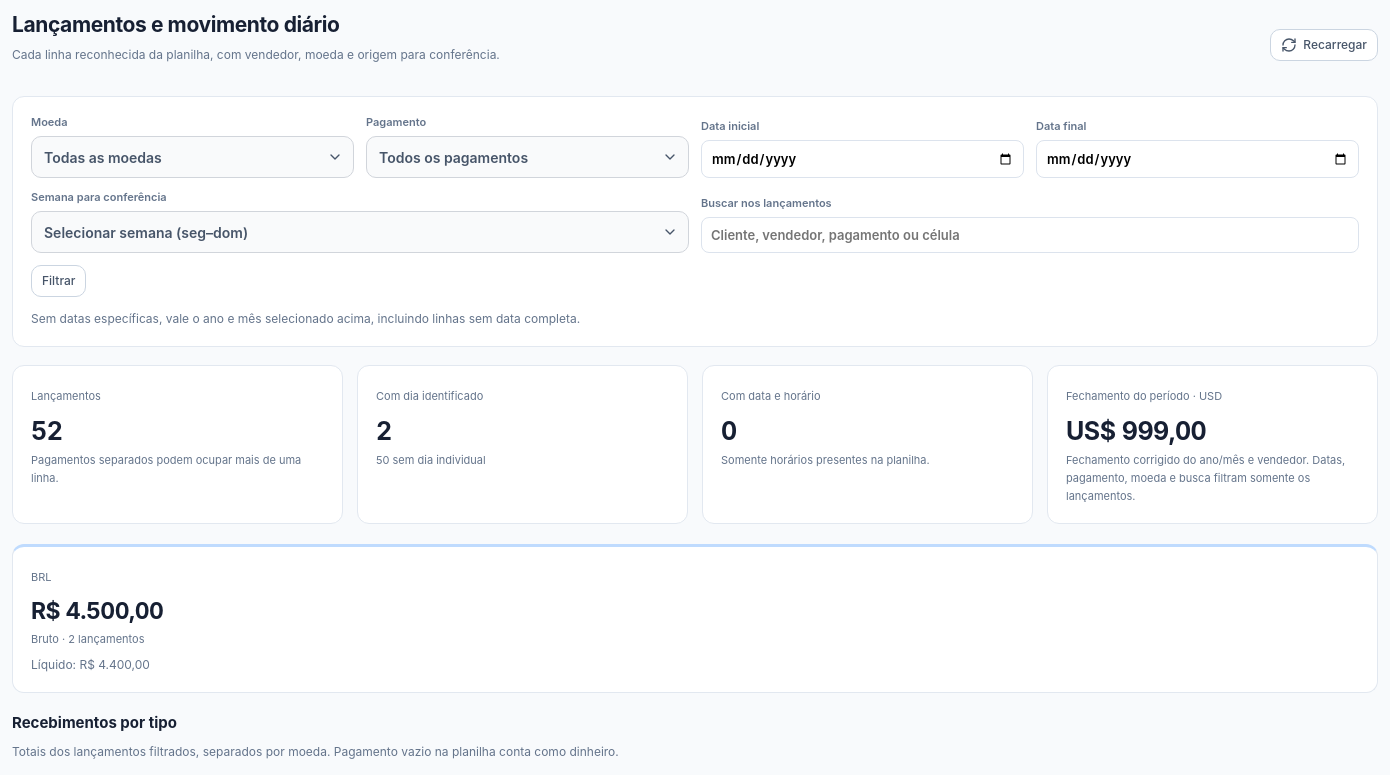
Test case: payment filters and receipt summaries › rejects reversed dates locally and explains excluded undated rows
Type "2026-09-30" into the date field labelled "Data inicial".
click(862, 159); type("2026-09-30")  # box [701,140,1024,178]
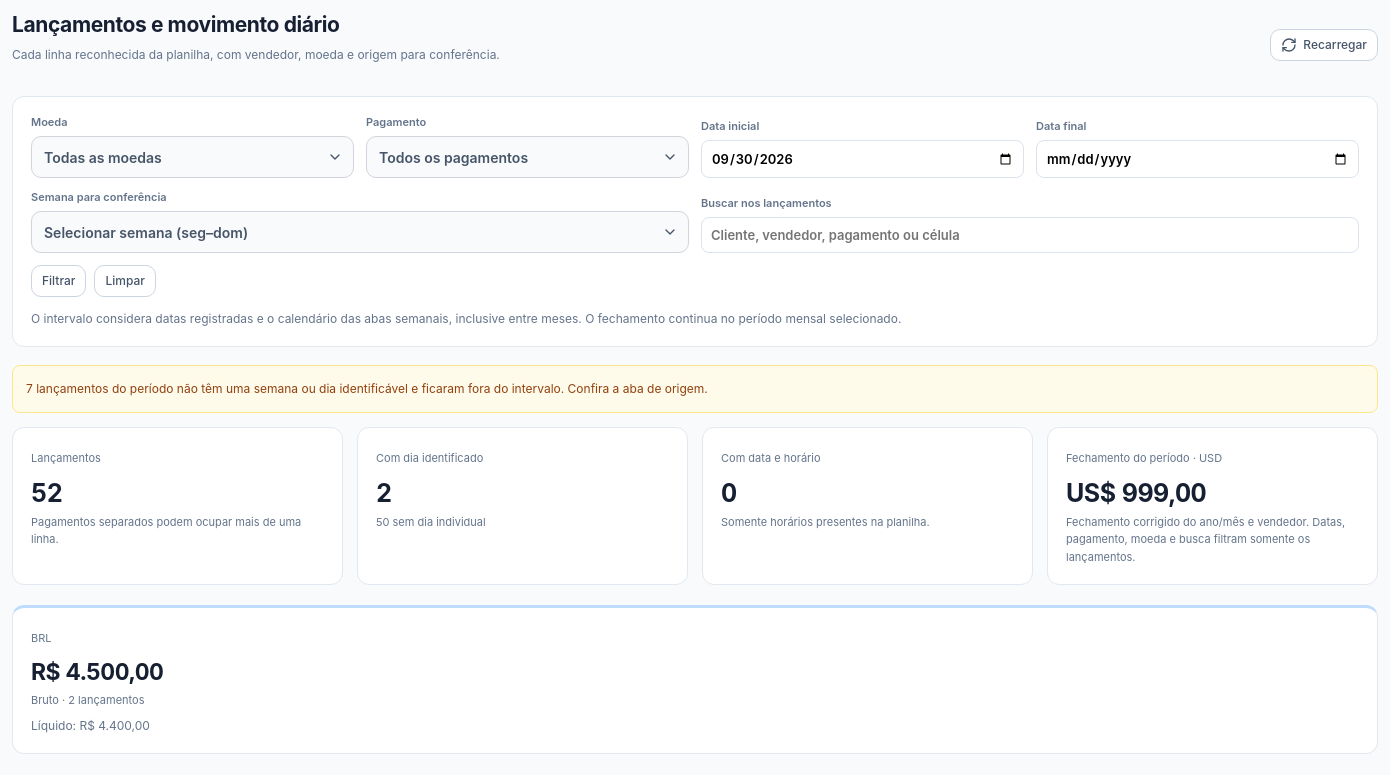
Check: the text "7 lançamentos do período" is shown, box [26,381,708,396]
Type "2026-09-01" into the date field labelled "Data final".
click(1198, 159); type("2026-09-01")  # box [1036,140,1359,178]
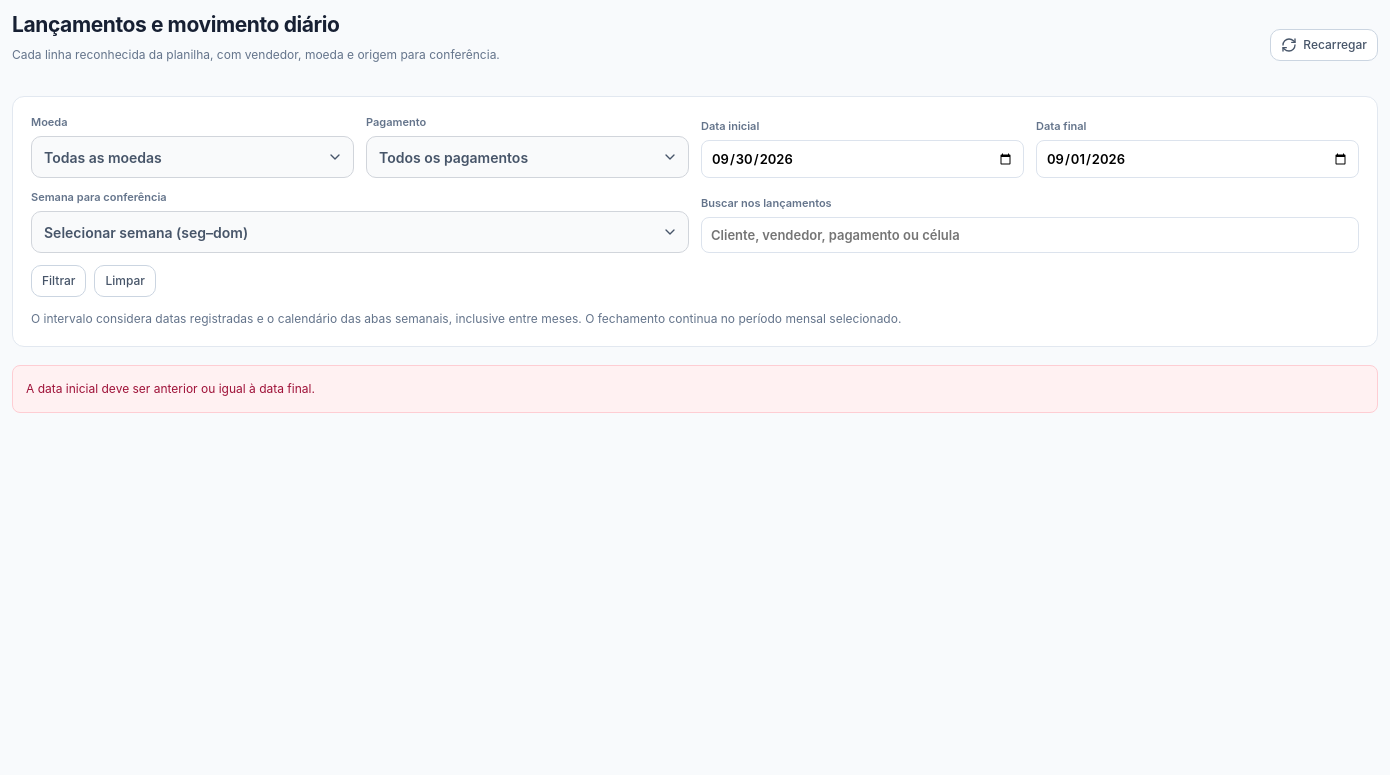
Check: the message "A data inicial deve ser anterior ou igual à data final." is shown, box [12,365,1378,413]
Check: the element with class "currency-summary" is gone
